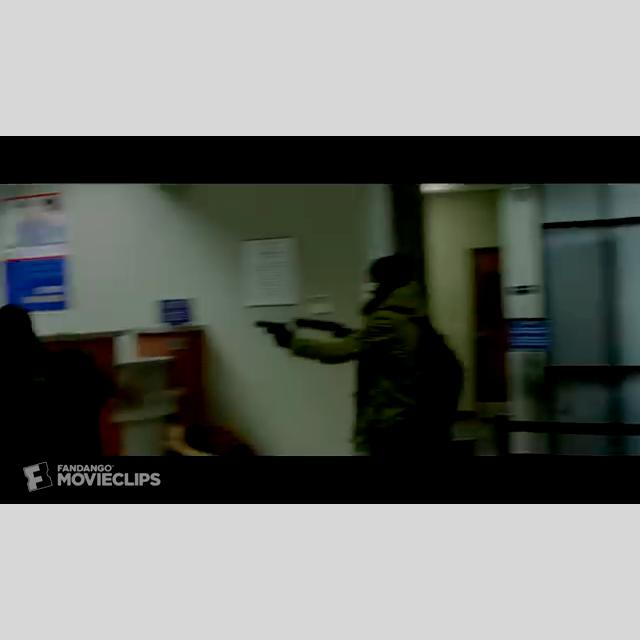criminal: (255, 254, 465, 456)
weapon: (294, 314, 350, 338), (254, 320, 292, 348)
